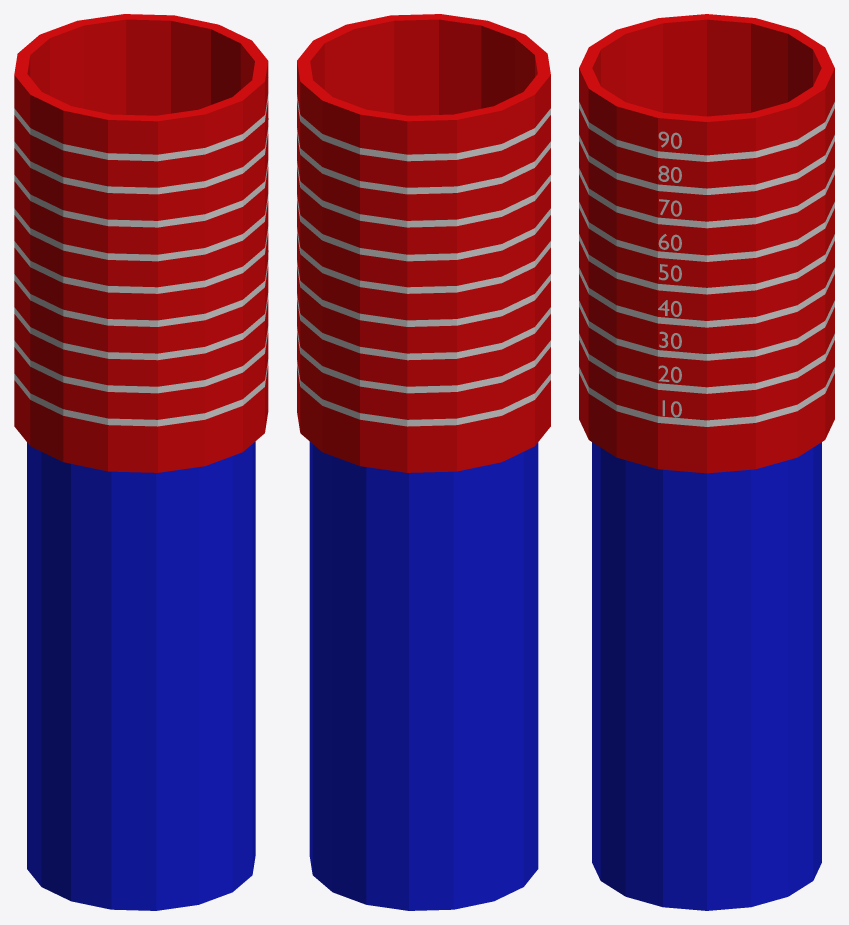
File: cewka_d.fbx
3 renders of one model, left to right at view 1: azimuth 30°, elevation 25°; view 2: azimuth 150°, elevation 25°; view 3: azimuth 270°, elevation 25°, orthographic.
Visible parts, largest first — view 1: CEWKA, CIECZ; view 2: CEWKA, CIECZ; view 3: CEWKA, CIECZ.
Part boxes in pixels (x1,y1,x2,y2): CEWKA: (14, 14, 268, 472); CIECZ: (27, 441, 255, 910); CEWKA: (297, 14, 550, 472); CIECZ: (309, 441, 538, 910); CEWKA: (579, 14, 834, 473); CIECZ: (592, 442, 821, 910).
Size of the model in its own units: 200 by 685 by 200.
